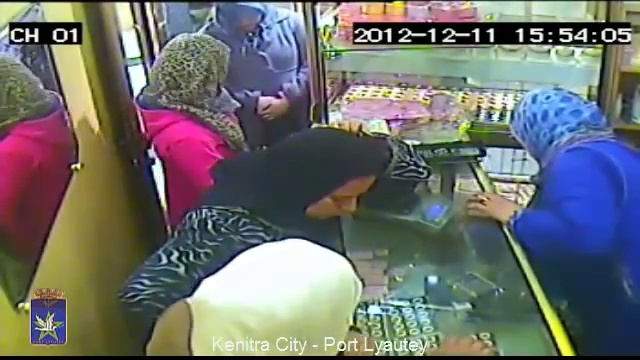face: (304, 173, 369, 216)
